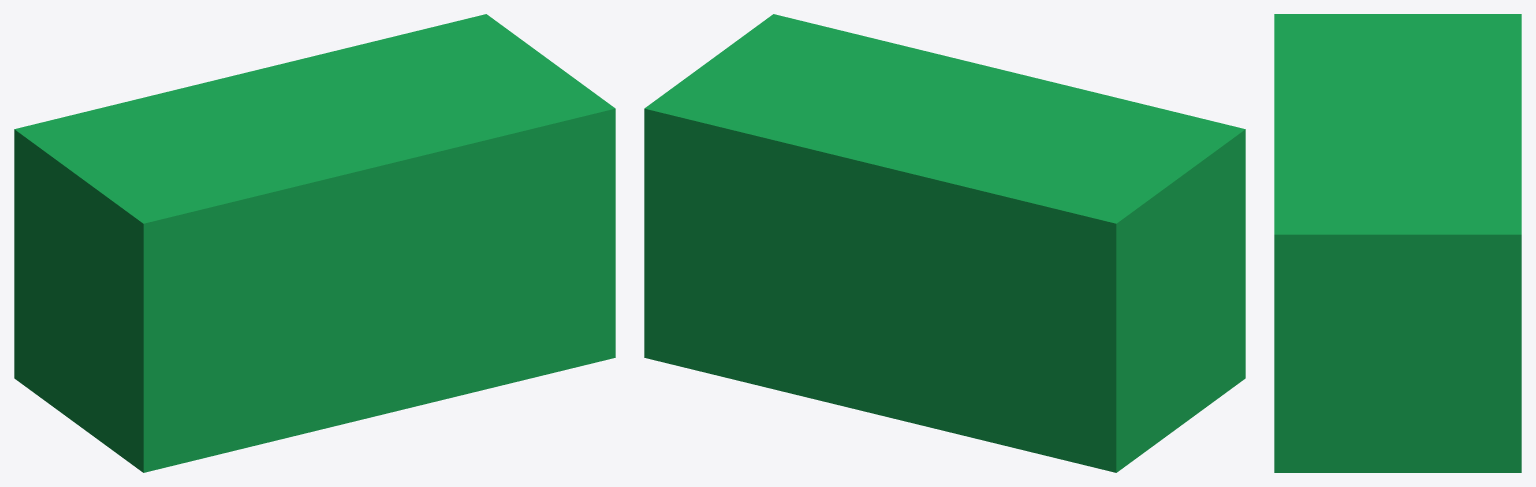
The picture shows the model from 3 angles, left to right: view 1: azimuth 30°, elevation 25°; view 2: azimuth 150°, elevation 25°; view 3: azimuth 270°, elevation 25°; orthographic projection. The views are drawn at different scales.
Bounding box in the file's own units: 3.57 × 1.8 × 1.69.
